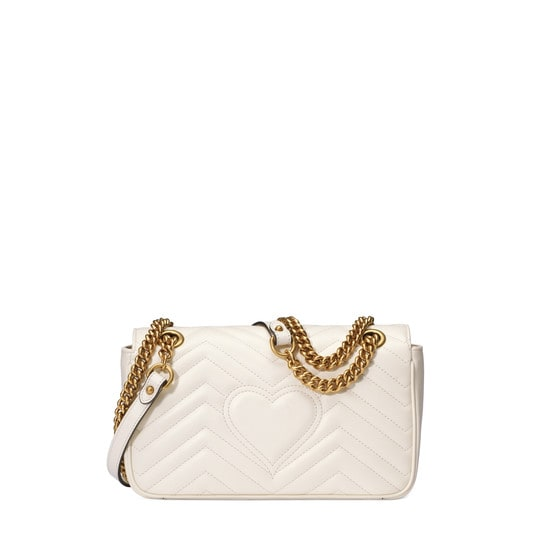Gucci: (95, 300, 434, 512), (160, 386, 402, 488)
